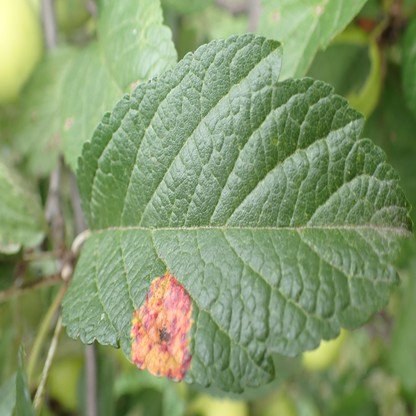rust: (131, 271, 193, 379)
